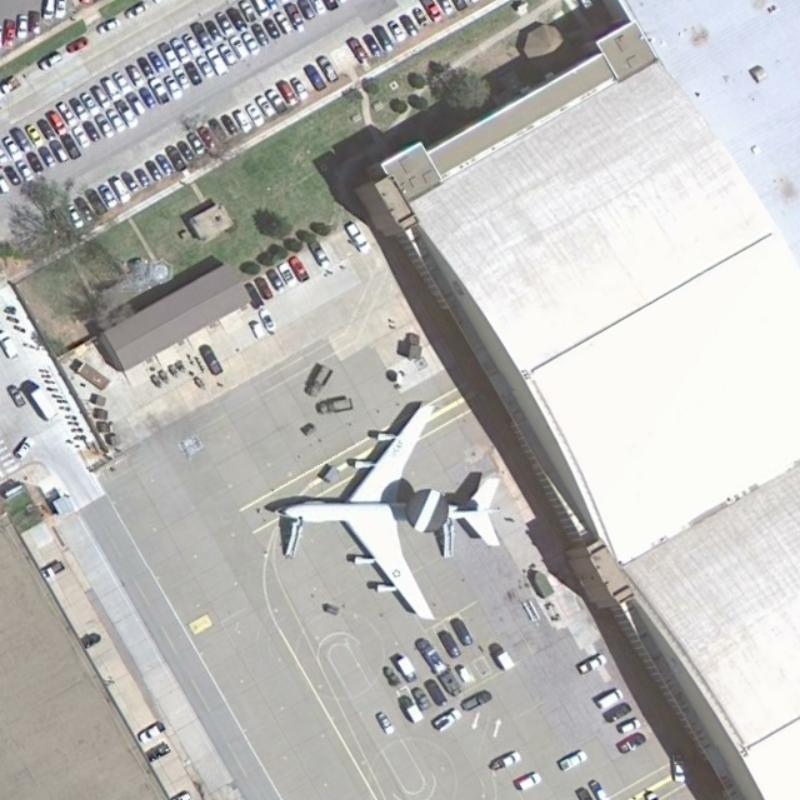A7: (261, 391, 508, 624)
